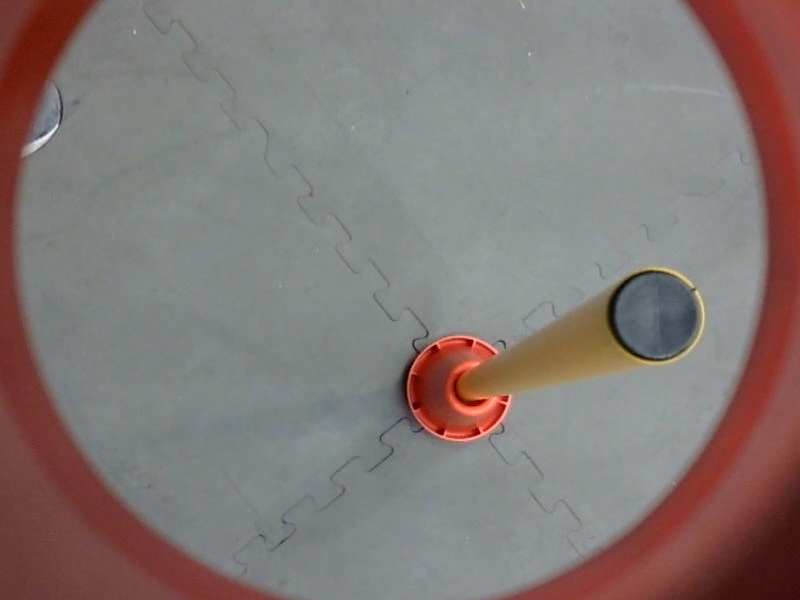tip: (595, 255, 714, 379)
